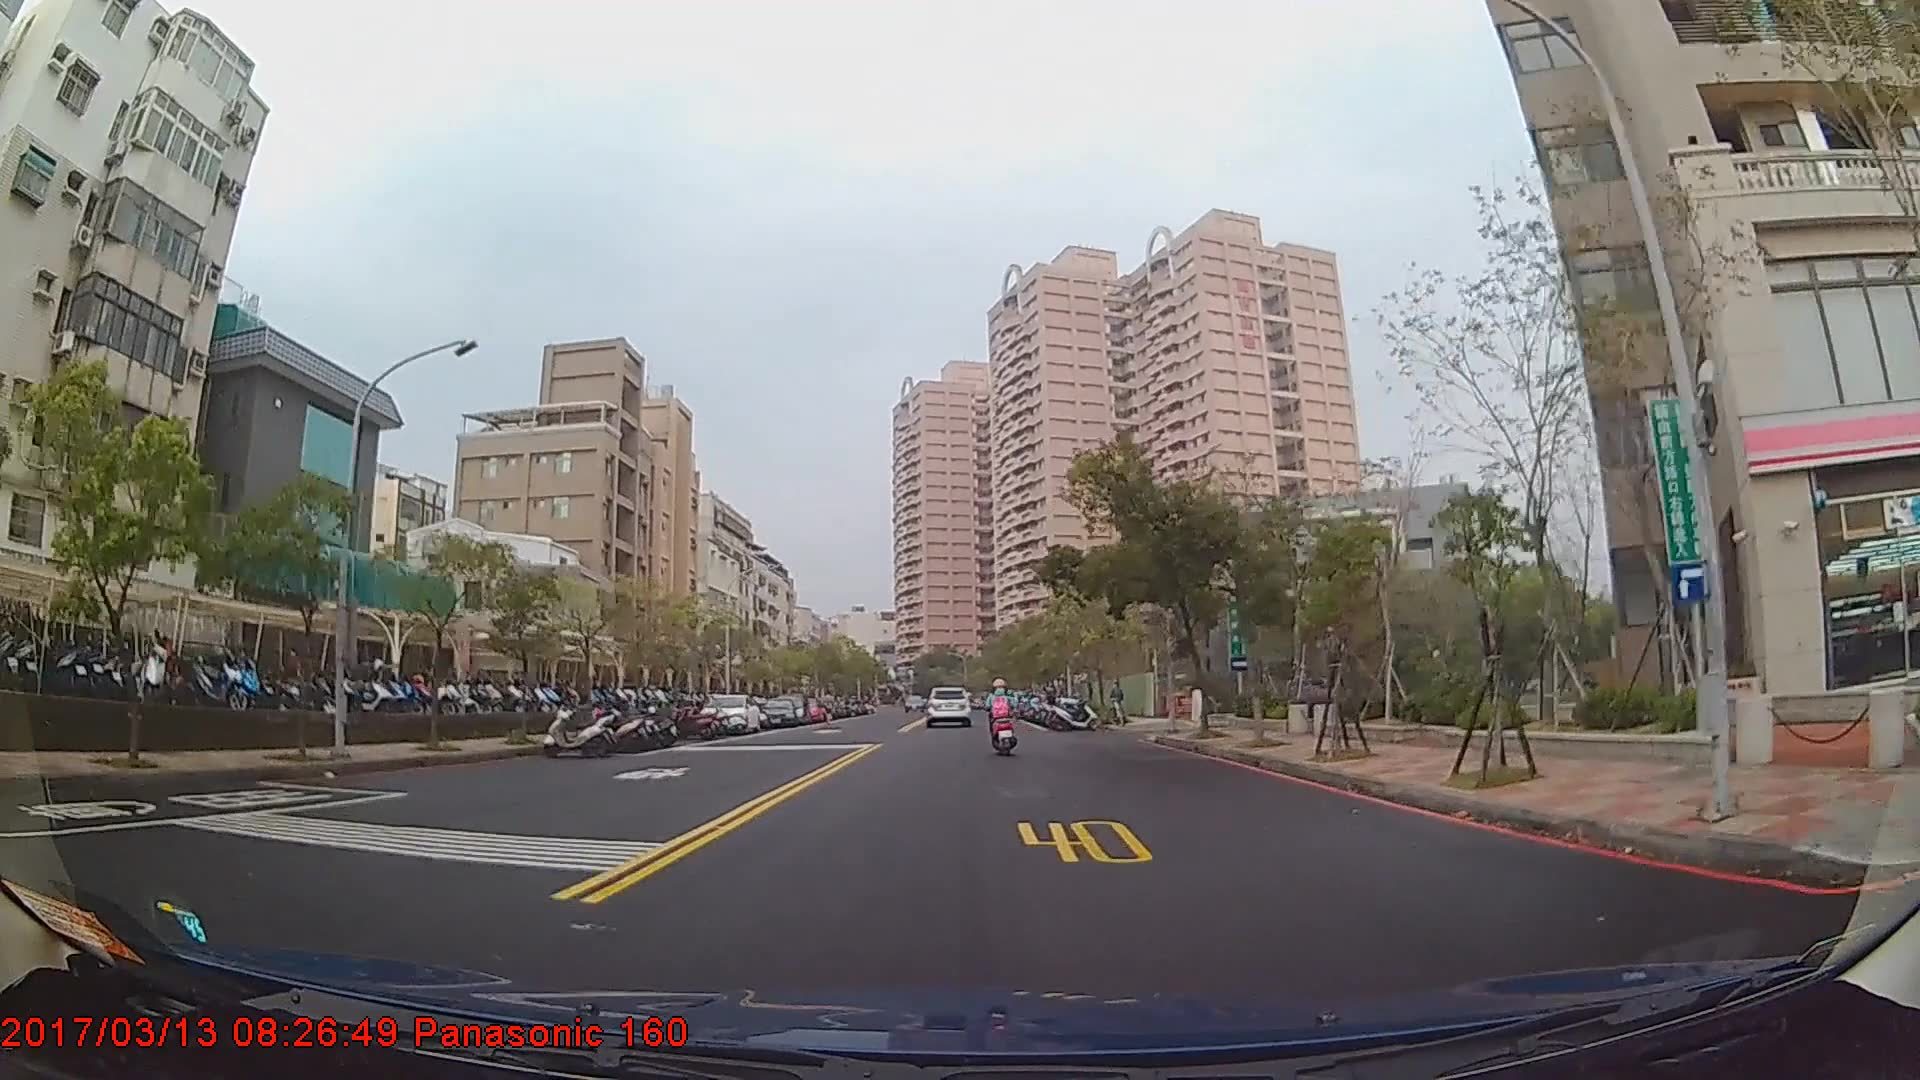pedestrian: (1108, 681, 1128, 727)
rider: (985, 679, 1019, 754)
vehicle: (696, 691, 761, 734), (921, 683, 972, 728), (756, 695, 799, 729)
